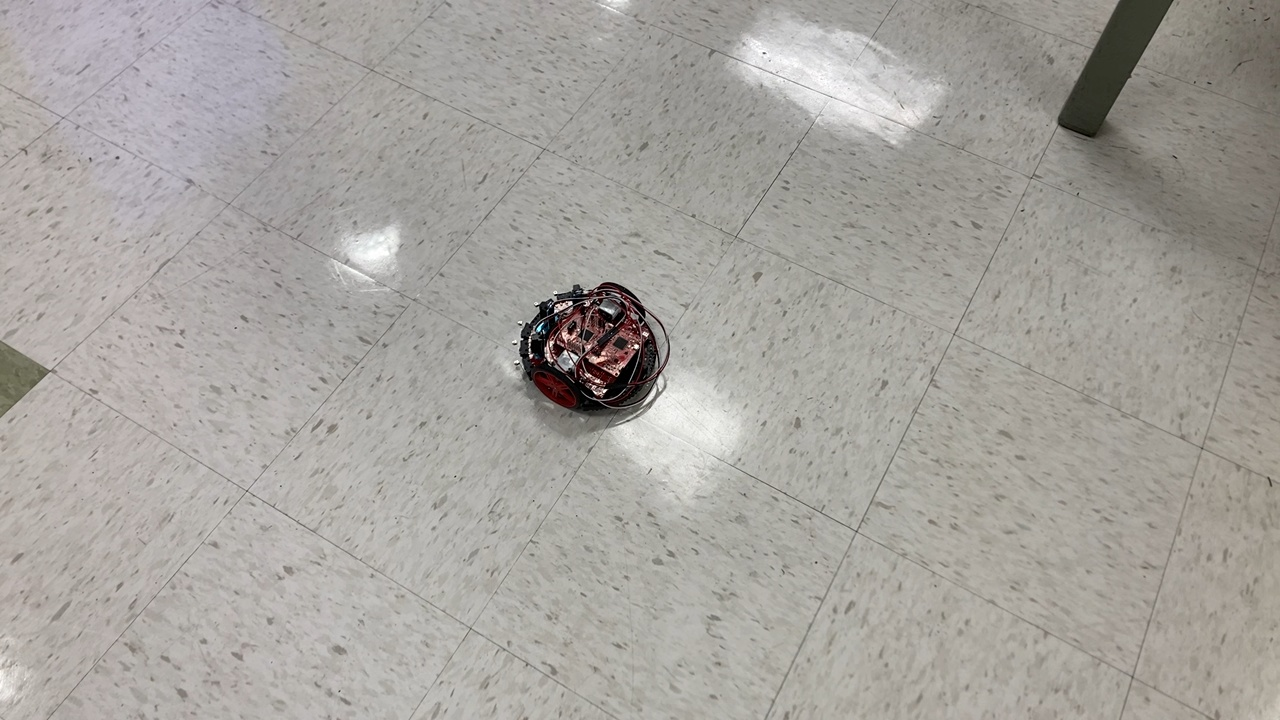robot: (509, 278, 678, 419)
